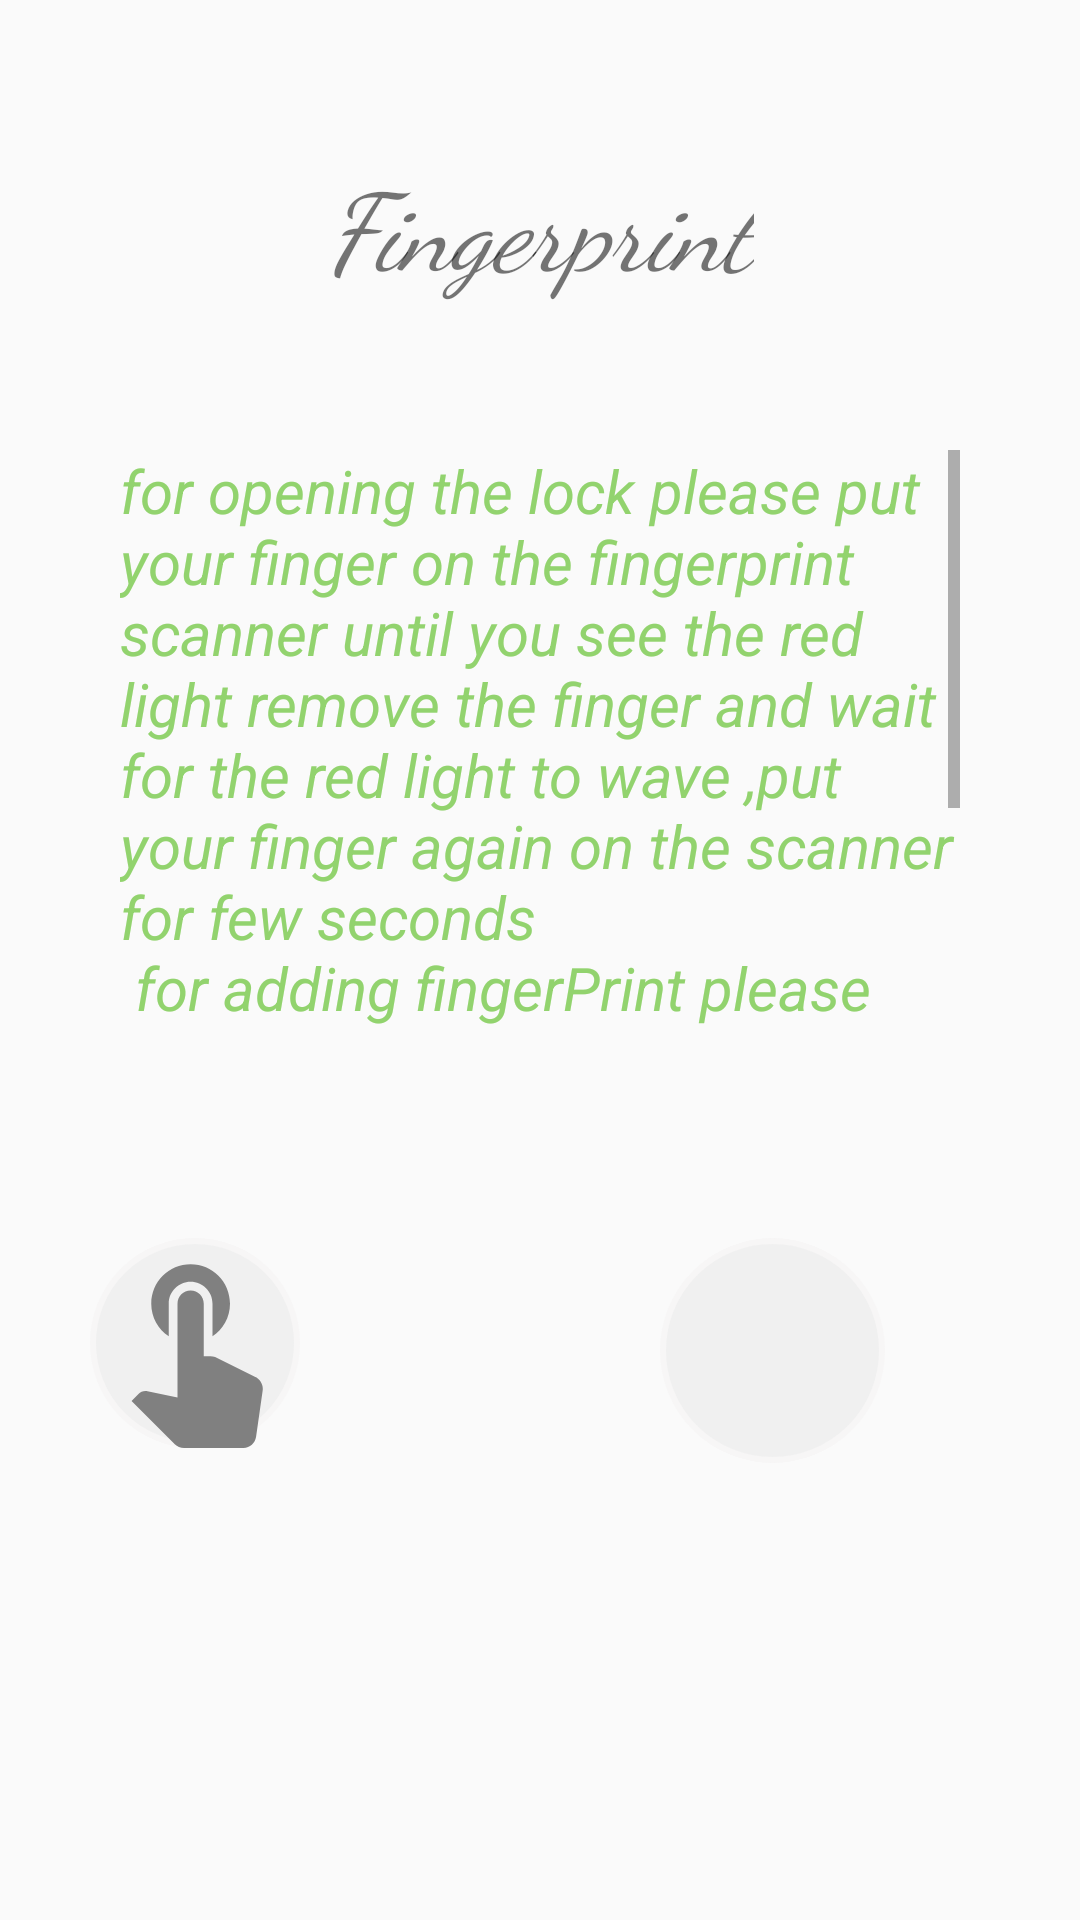

Icons on this 1080*1920 Android screen, each with the point to tap as point (x, y):
finger: point (197, 1356)
